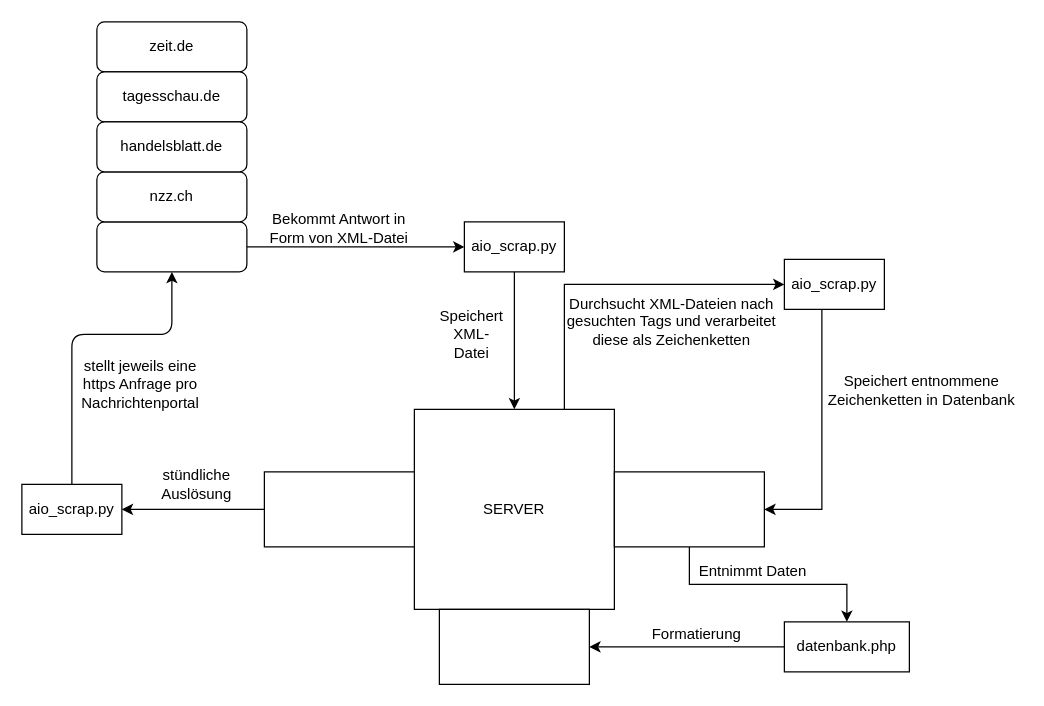
This 1044x706 diagram has some shape labels left out. The box of each missing label's shape, as (x1, y1, x2, y2) in pixels:
Cronjob: (263, 471, 414, 547)
dw.com: (96, 221, 247, 272)
SQL Datenbank: (613, 471, 764, 547)
Website (HTML-Files): (438, 608, 589, 684)
